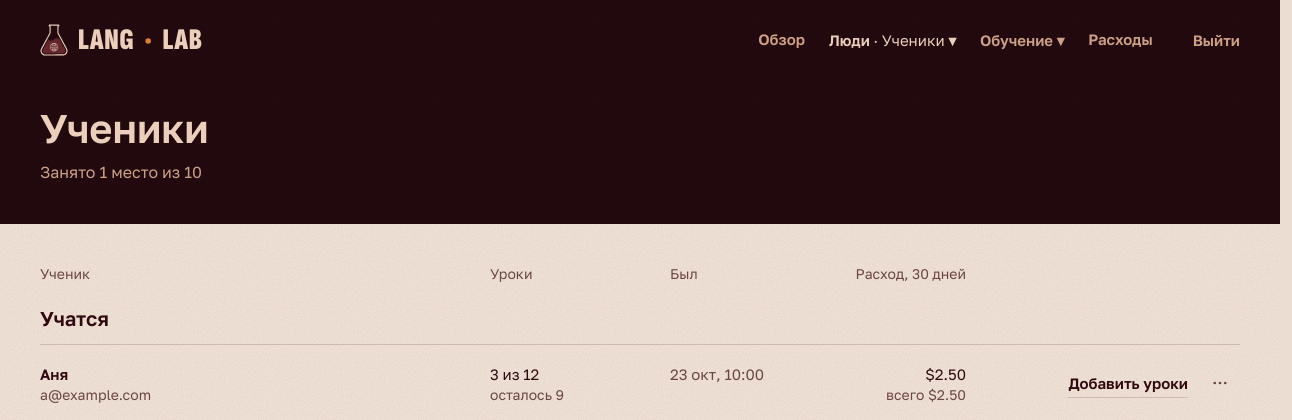
Scenario: header › groups the tabs: a group names the tab open in it and opens a list of its tabs
The image size is (1292, 420).
Check: the menu item "Заявки" is not shown
Step 1. Click the button "Люди · Ученики ▾" → (892, 40), box [829,30,956,50]
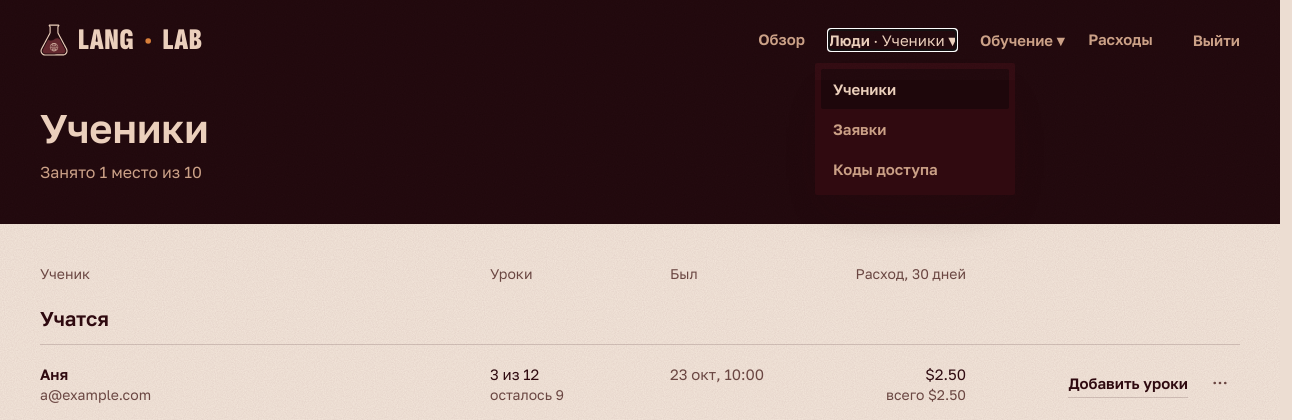
Step 2. Click the menu item "Заявки" → (860, 129), box [833,120,886,138]
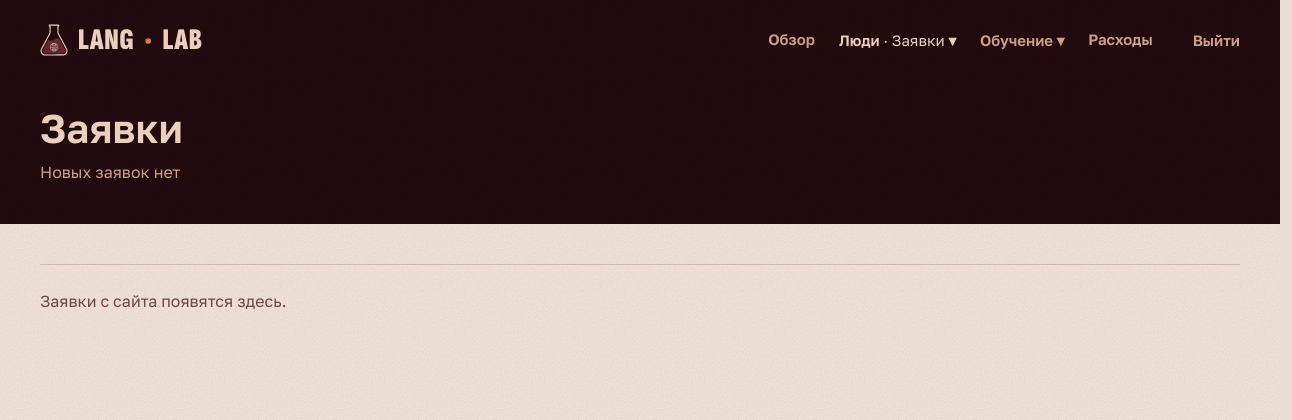
Check: the menu is gone
Check: the button "Люди · Заявки ▾" is shown, box [839,30,956,50]
